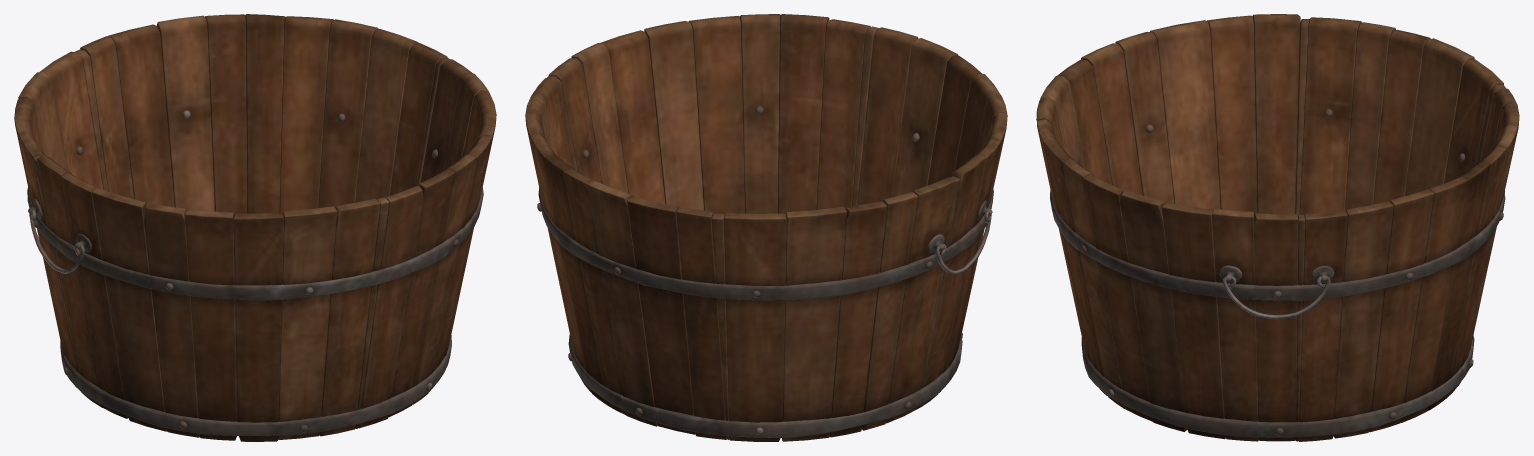
File: wooden_bucket_02.glb
3 renders of one model, left to right at view 1: azimuth 30°, elevation 25°; view 2: azimuth 150°, elevation 25°; view 3: azimuth 270°, elevation 25°, orthographic.
Parts seen in each view (by area): view 1: wooden_bucket_02, wooden_bucket_02_handle_01; view 2: wooden_bucket_02, wooden_bucket_02_handle_01; view 3: wooden_bucket_02, wooden_bucket_02_handle_02.
Part boxes in pixels (box(x1,y1,x2,y2)): wooden_bucket_02: box(14, 14, 496, 441); wooden_bucket_02_handle_01: box(29, 210, 84, 273); wooden_bucket_02: box(525, 14, 1007, 441); wooden_bucket_02_handle_01: box(935, 211, 991, 274); wooden_bucket_02: box(1036, 14, 1519, 441); wooden_bucket_02_handle_02: box(1222, 275, 1330, 319).
Size of the model in its own units: 0.6153 by 0.3504 by 0.6163.
1 material, 1 textured.
